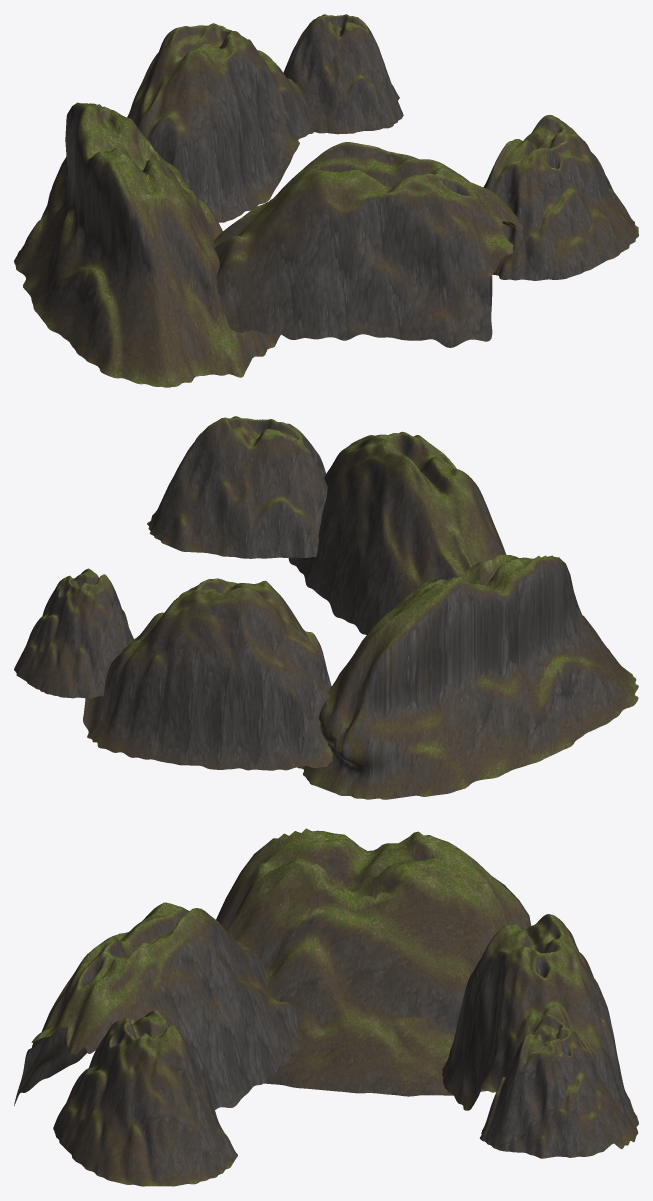
Rendered from Mountains.fbx.
3 views of the same model, one above another, from view 1: azimuth 30°, elevation 25°; view 2: azimuth 150°, elevation 25°; view 3: azimuth 270°, elevation 25° (orthographic). The views are drawn at different scales.
Visible parts, largest first — view 1: Landscape.011, Landscape.006, Landscape.001, Landscape.003, Landscape.002; view 2: Landscape.006, Landscape.001, Landscape.011, Landscape.003, Landscape.002; view 3: Landscape.006, Landscape.011, Landscape.003, Landscape.001, Landscape.002.
Part boxes in pixels (<box>): Landscape.011: <box>213,142,523,347</box>; Landscape.006: <box>14,102,280,387</box>; Landscape.001: <box>127,23,313,222</box>; Landscape.003: <box>483,115,638,280</box>; Landscape.002: <box>283,14,403,134</box>; Landscape.006: <box>297,554,638,799</box>; Landscape.001: <box>83,578,332,770</box>; Landscape.011: <box>288,431,505,634</box>; Landscape.003: <box>147,416,327,558</box>; Landscape.002: <box>14,568,133,698</box>; Landscape.006: <box>216,828,531,1096</box>; Landscape.011: <box>14,902,300,1109</box>; Landscape.003: <box>53,1010,237,1186</box>; Landscape.001: <box>442,914,638,1148</box>; Landscape.002: <box>480,1014,628,1158</box>.
Bounding box in the file's own units: 6112 × 2119 × 6131.
5 materials, 5 textured.
